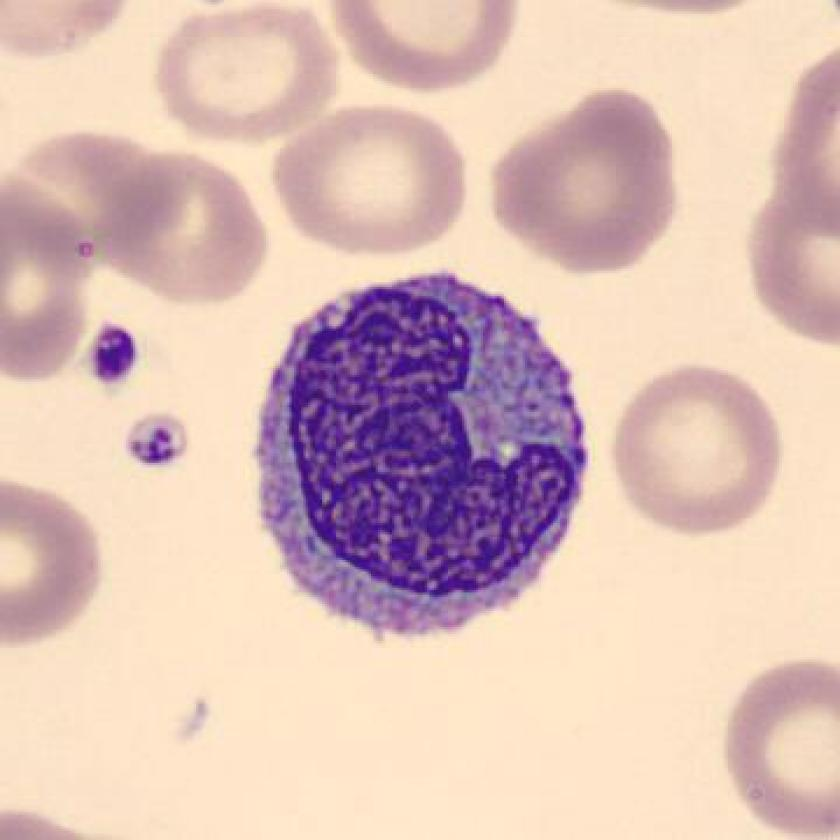monocyte: (235, 253, 613, 658)
